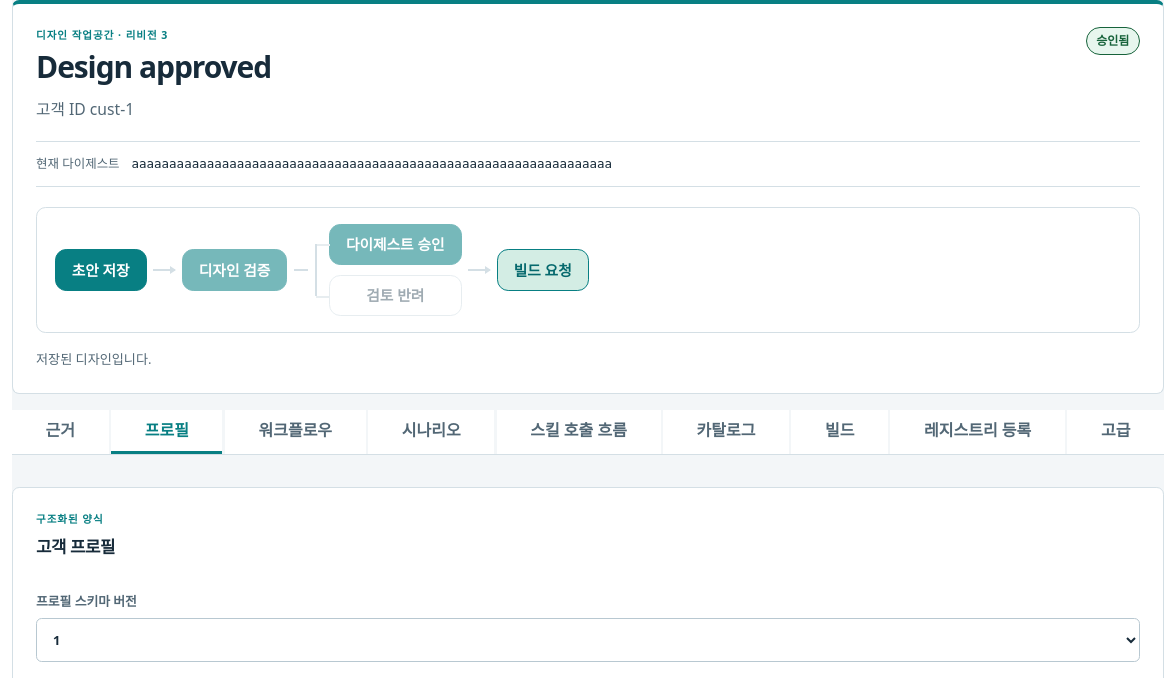
it: StudioDesignPageContent › refetches design after queueing a build so lifecycle actions update
expect the heading "Design approved" is shown: met, box [36,50,271,83]
Click the button "빌드 요청": coordinates (543, 270) [497,249,589,291]
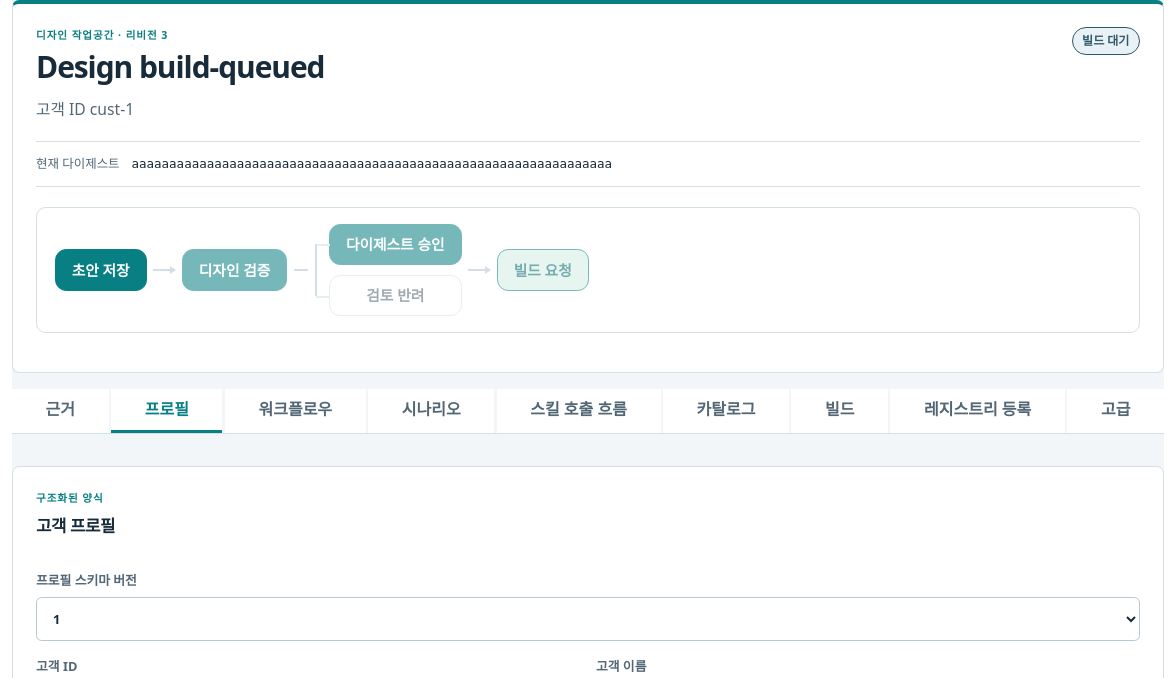
expect the button "디자인 검증" is disabled: met, box [182,249,287,291]
expect the text "빌드 대기" is shown: met, box [1072,27,1140,55]
